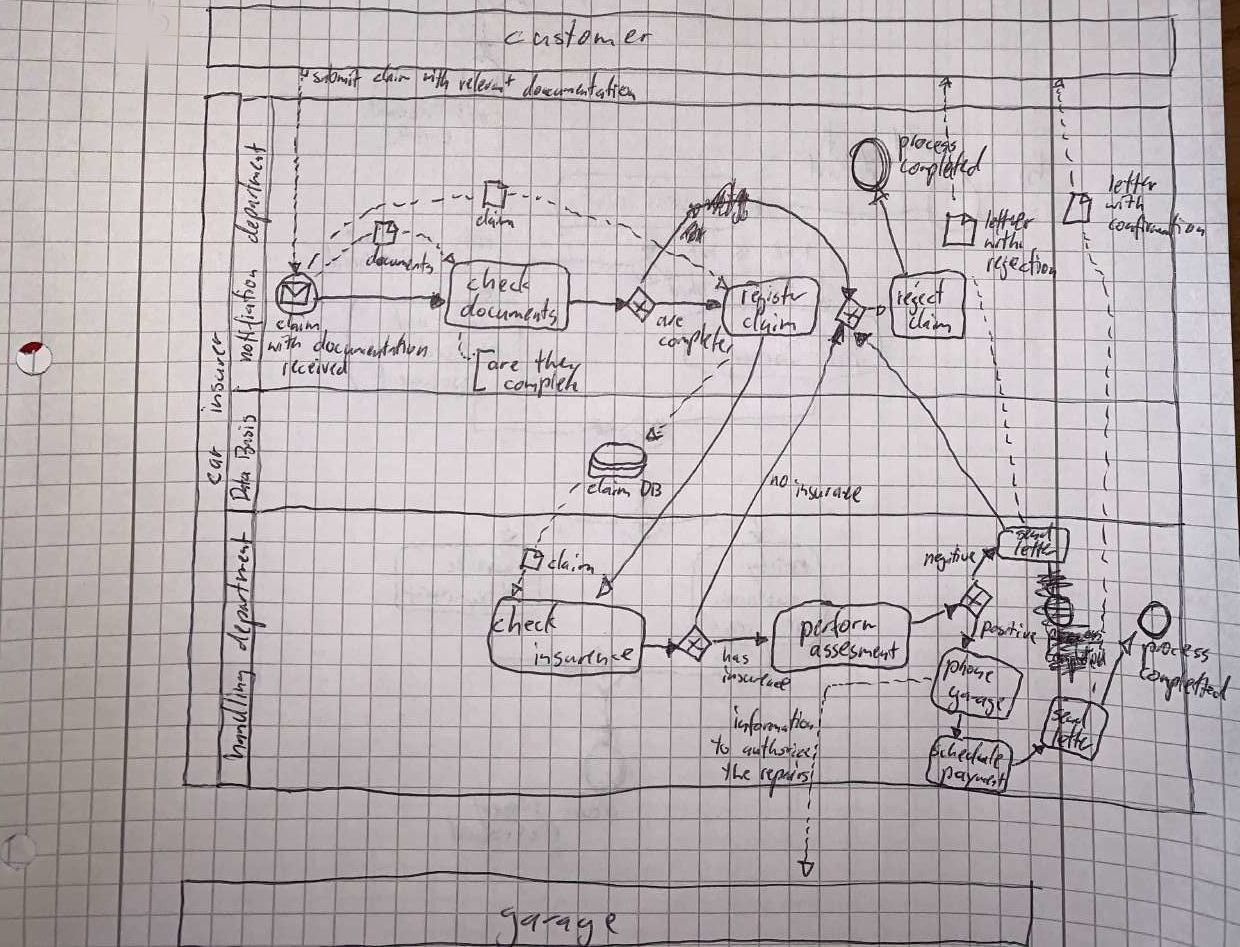Basis: (227, 410, 261, 465)
DB: (633, 477, 667, 504)
Data: (223, 466, 256, 507)
are: (481, 353, 525, 378), (650, 307, 688, 334)
assesment: (801, 634, 903, 666)
authorize: (740, 735, 815, 759)
car: (196, 441, 228, 491)
check: (484, 596, 564, 642), (460, 254, 536, 298)
claim: (734, 302, 804, 339), (540, 544, 600, 580), (900, 302, 957, 339), (580, 473, 636, 503), (268, 308, 325, 337), (468, 203, 520, 234), (364, 59, 415, 87)
complete: (494, 359, 588, 404)
completed: (891, 141, 993, 192), (1131, 662, 1235, 707)
completer: (652, 319, 740, 363)
confirmation: (1100, 209, 1210, 247)
customer: (496, 15, 657, 53)
department: (216, 526, 271, 657), (227, 135, 276, 250)
documentation: (306, 325, 434, 364), (515, 68, 641, 106)
documents: (453, 287, 562, 332), (358, 241, 439, 280)
garage: (486, 900, 629, 946), (938, 682, 1010, 721)
handling: (213, 665, 261, 765)
has: (721, 643, 751, 667)
informatio: (731, 704, 819, 736)
insurance: (526, 637, 638, 671), (788, 476, 867, 507), (718, 664, 796, 693)
insurer: (195, 328, 232, 419)
letter: (976, 203, 1041, 237), (1046, 717, 1099, 758), (1101, 167, 1162, 201), (1005, 534, 1062, 561)
negative: (915, 540, 980, 577)
no: (764, 469, 793, 493)
notification: (225, 265, 268, 368)
payment: (933, 762, 1009, 794)
perform: (793, 600, 882, 653)
phone: (936, 651, 997, 687)
positive: (974, 615, 1040, 648)
process: (1135, 635, 1215, 674), (890, 129, 961, 166)
received: (274, 350, 353, 383)
register: (732, 274, 813, 320)
reject: (890, 273, 951, 321)
rejection: (978, 244, 1061, 287)
relevant: (452, 67, 519, 97)
repairs: (753, 760, 811, 799)
schedule: (924, 738, 1010, 775)
send: (1043, 695, 1099, 735)
submit: (304, 64, 367, 89)
the: (721, 760, 753, 782)
they: (525, 344, 587, 383)
to: (708, 734, 732, 757)
with: (976, 227, 1030, 255), (1096, 191, 1150, 217), (413, 63, 455, 96), (261, 332, 306, 357)
